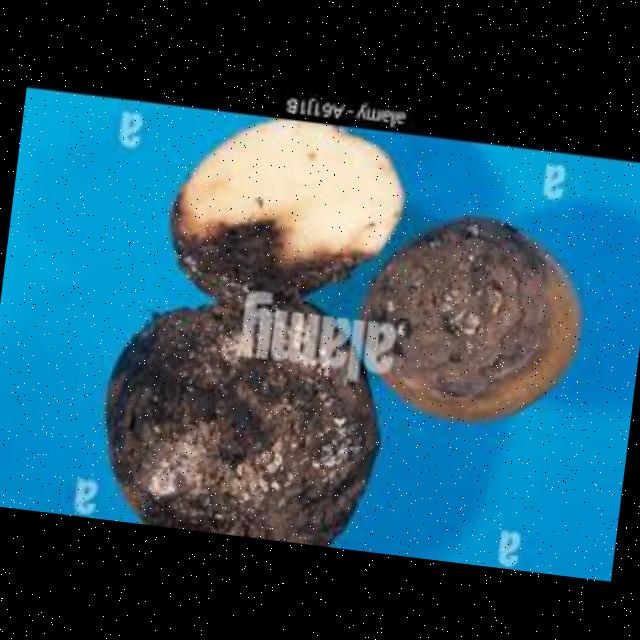Defected potato: (72, 274, 402, 550), (358, 203, 600, 458)
